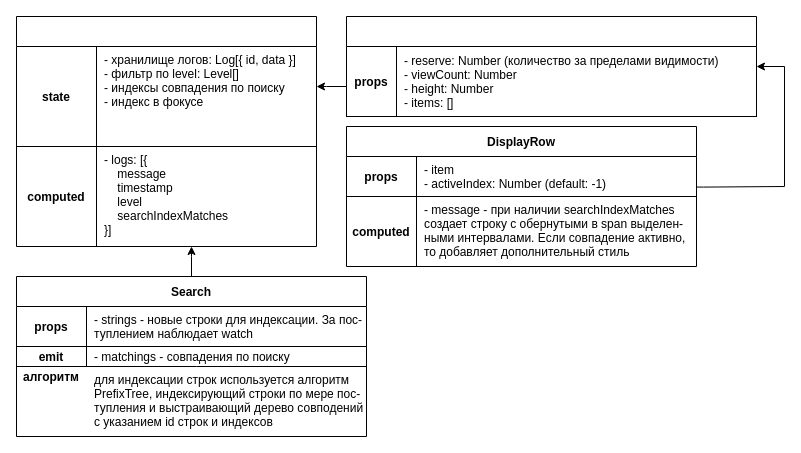
Some shapes in this 801 by 453 pixel diagram are drawn without their labels. Here are the shapes that lost their labels. From the top down, the box of each, then its label:
(346, 16, 756, 116): Display
(16, 16, 316, 246): LogViewer
